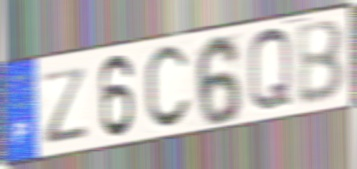6: (193, 31, 244, 128), (98, 53, 135, 141)
B: (294, 16, 346, 108)
C: (143, 42, 194, 134)
Q: (246, 26, 295, 117)
Z: (40, 63, 90, 147)
